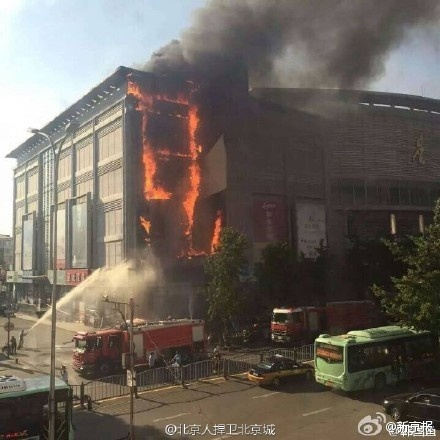fire: (132, 72, 214, 259)
